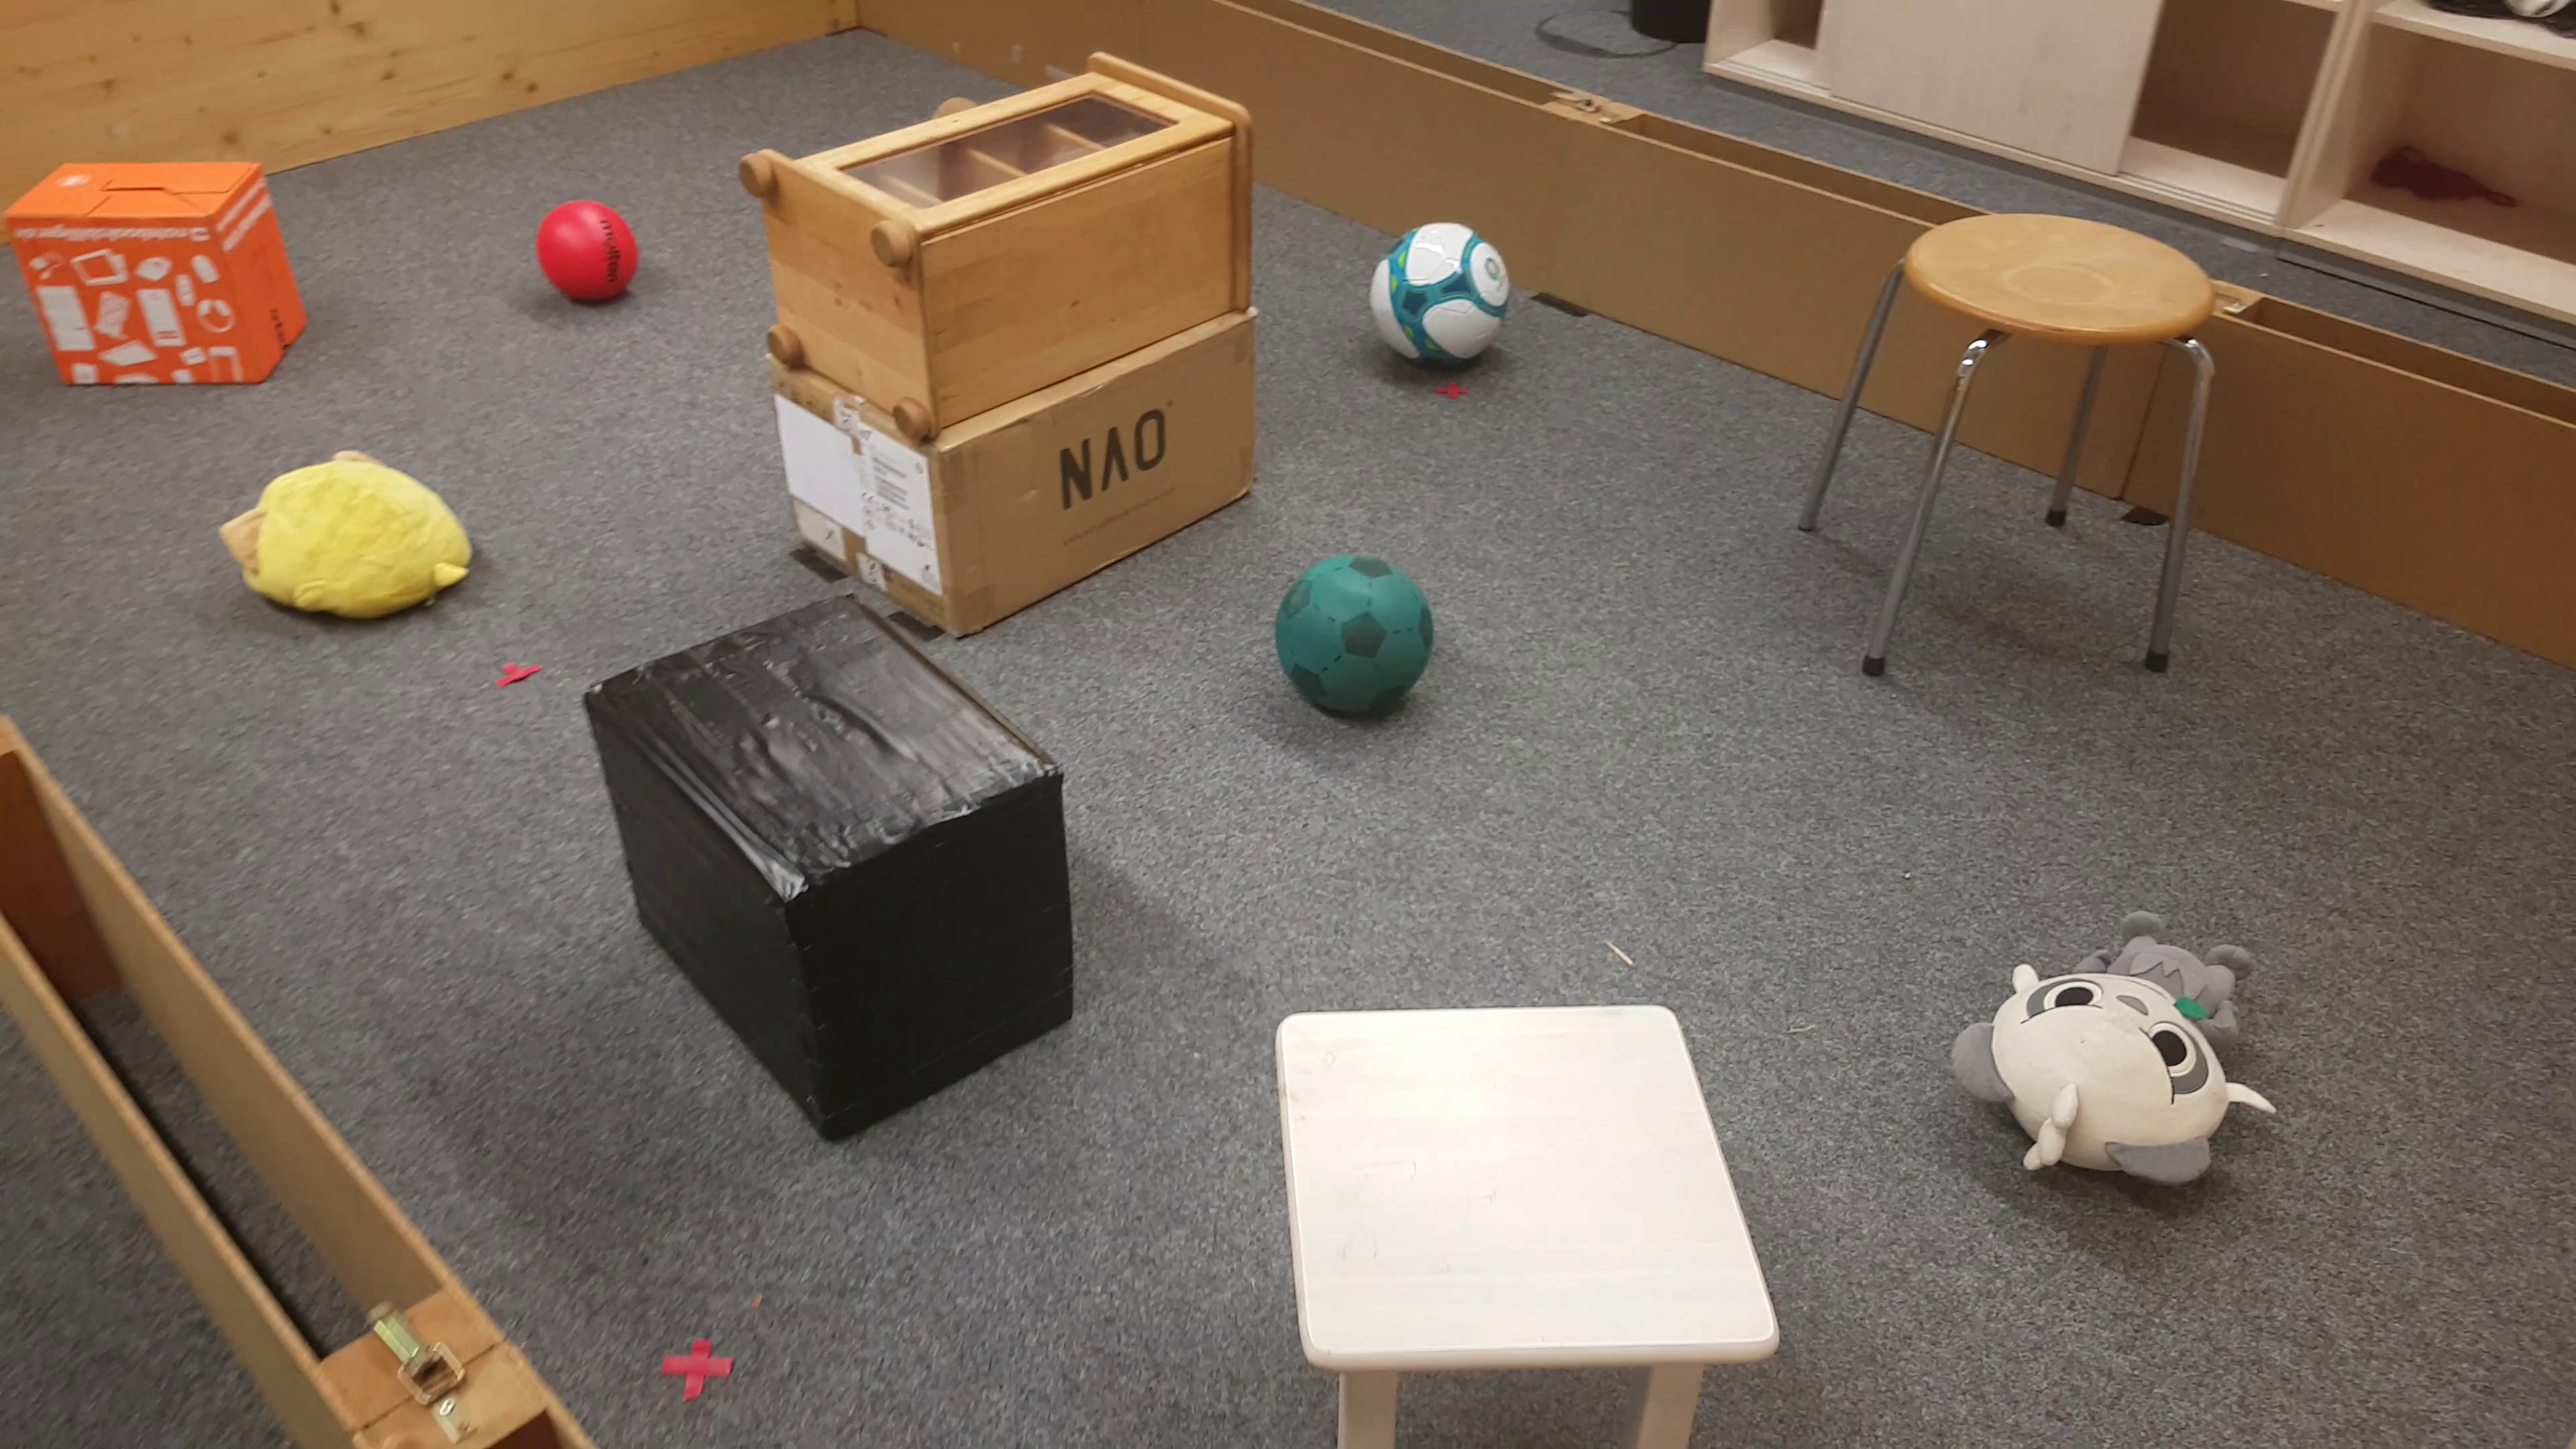grasp: (1960, 908, 2286, 1214), (225, 453, 483, 621)
kick: (1265, 550, 1445, 732), (1373, 216, 1513, 372), (533, 196, 639, 311)
push: (587, 602, 1086, 1145), (7, 149, 313, 387)
